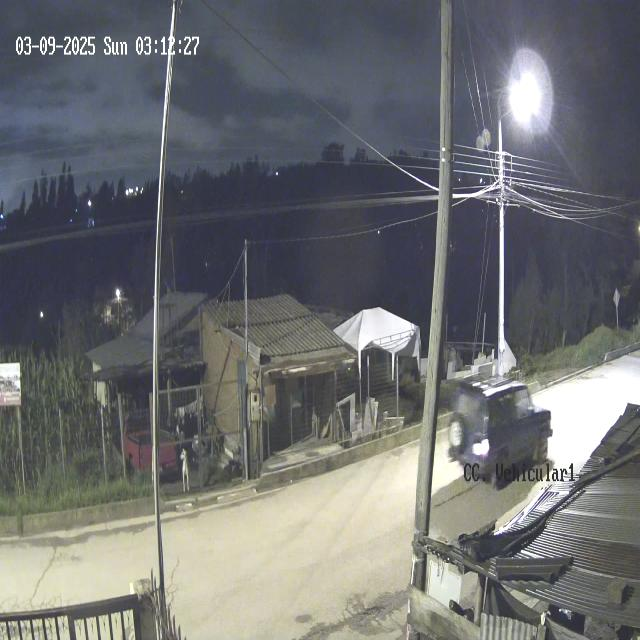SUV: (447, 373, 555, 490)
